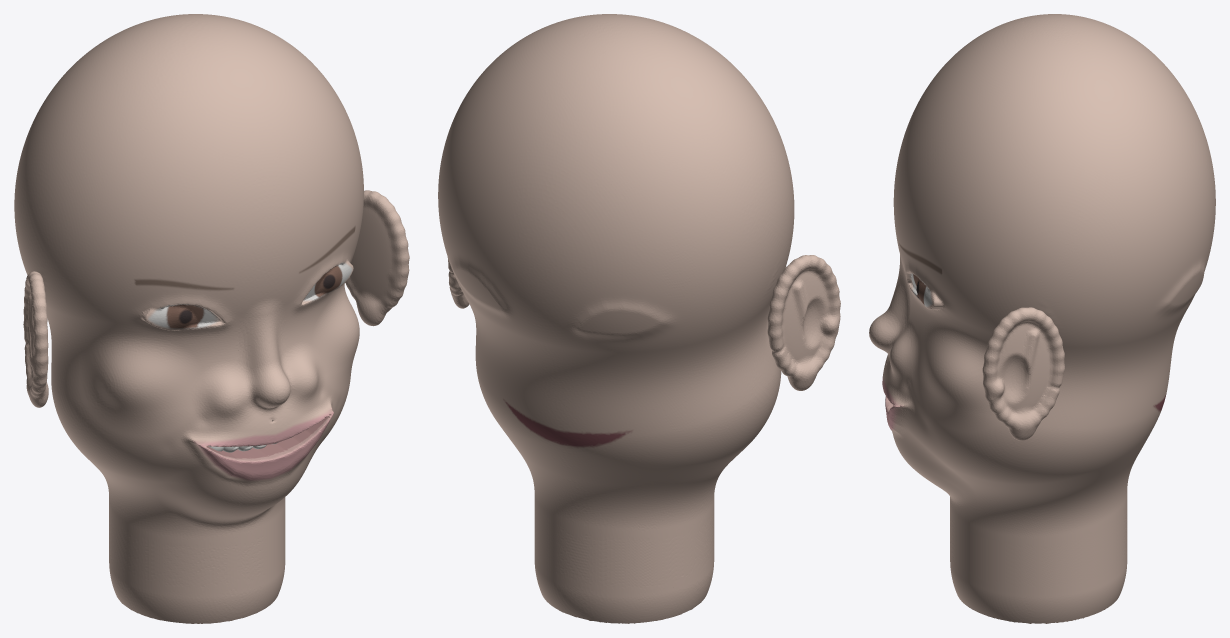
File: karma_face_stage1_P_smile_EXPERIMENT.glb
3 renders of one model, left to right at view 1: azimuth 30°, elevation 25°; view 2: azimuth 150°, elevation 25°; view 3: azimuth 270°, elevation 25°, orthographic.
Visible parts, largest first — view 1: head; view 2: head; view 3: head.
Part boxes in pixels (box(x1,y1,x2,y2)): head: box(14, 14, 409, 623); head: box(438, 14, 840, 623); head: box(869, 14, 1215, 623).
Size of the model in its own units: 2.7 by 3.83 by 2.15.
